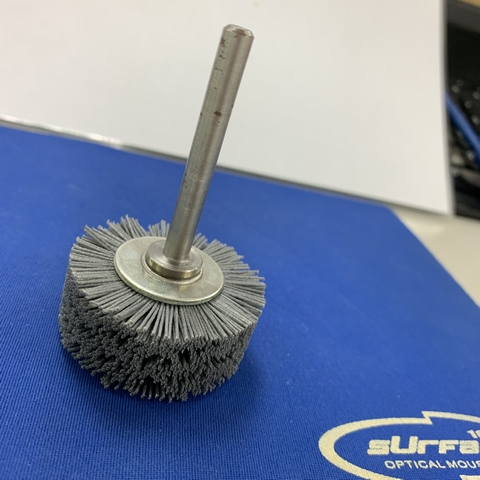Wheel Brush: (47, 20, 330, 400), (55, 84, 280, 409), (55, 31, 242, 406), (77, 24, 261, 404)
